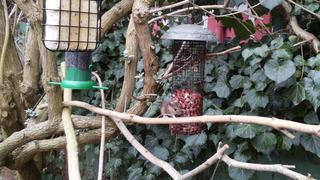mouse: (146, 99, 182, 126)
